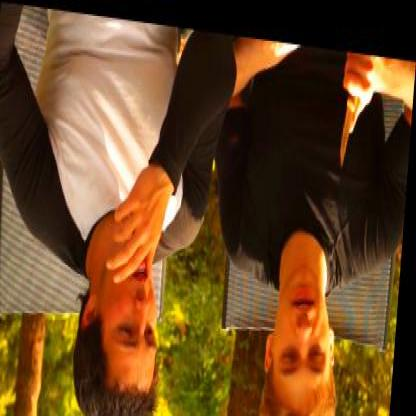knife: (328, 40, 378, 170)
